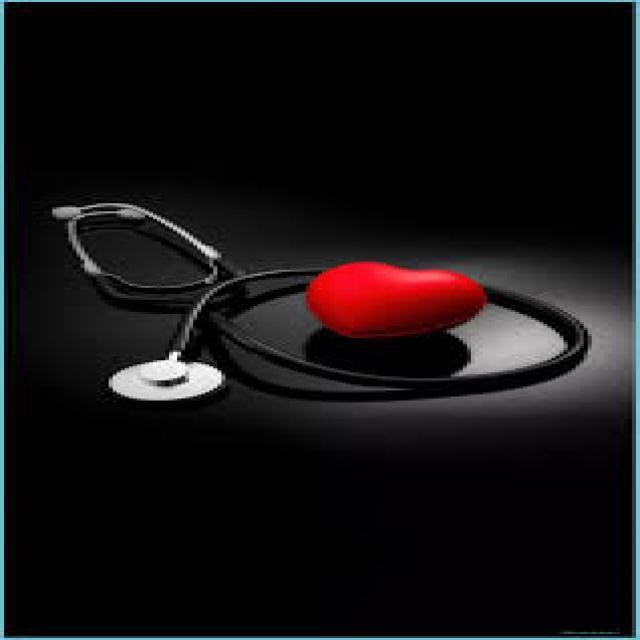stethoscope: (113, 191, 529, 480)
